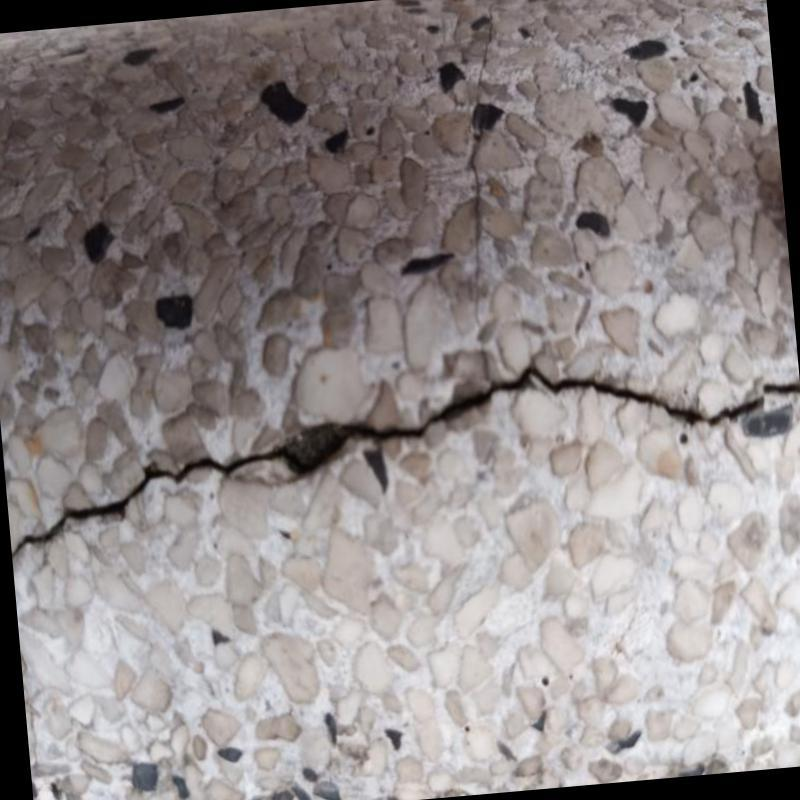pothole: (12, 370, 800, 556)
